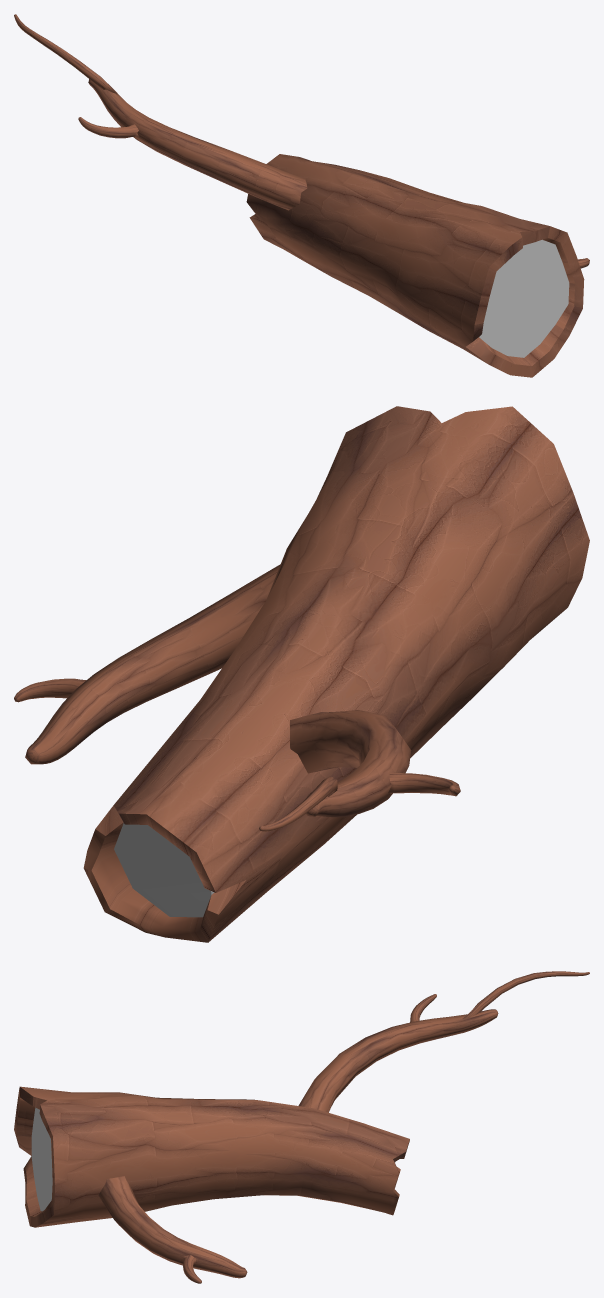
File: Tree_Log_2.gltf
3 renders of one model, top to bottom at view 1: azimuth 30°, elevation 25°; view 2: azimuth 150°, elevation 25°; view 3: azimuth 270°, elevation 25°, orthographic. The views are drawn at different scales.
Visible parts, largest first — view 1: Tree_Log_2; view 2: Tree_Log_2; view 3: Tree_Log_2.
Part boxes in pixels (bbox=[...]): Tree_Log_2: bbox=[14, 14, 589, 377]; Tree_Log_2: bbox=[14, 406, 589, 942]; Tree_Log_2: bbox=[14, 971, 589, 1283].
Size of what is drawn, in the model's own units: 2.24 by 1.06 by 3.29.
